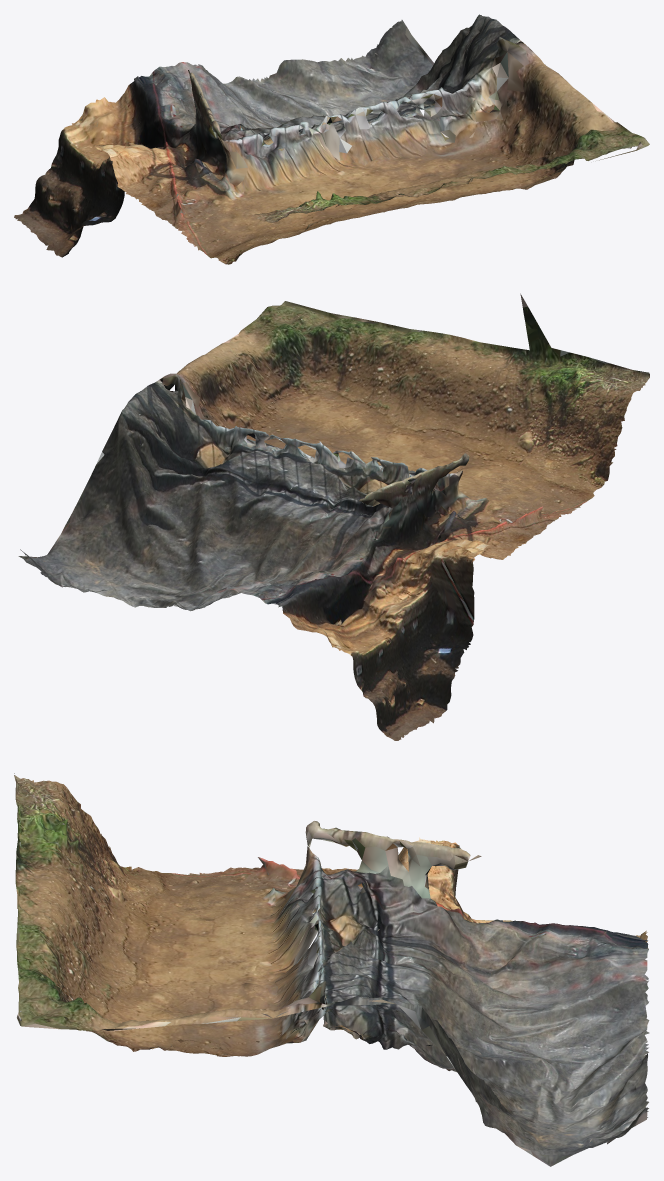
File: Montebelluna_scavo_LOD1.gltf
3 renders of one model, top to bottom at view 1: azimuth 30°, elevation 25°; view 2: azimuth 150°, elevation 25°; view 3: azimuth 270°, elevation 25°, orthographic. The views are drawn at different scales.
Visible parts, largest first — view 1: Montebelluna_scavo_LOD1_SM_Montebelluna_scavo_LOD1; view 2: Montebelluna_scavo_LOD1_SM_Montebelluna_scavo_LOD1; view 3: Montebelluna_scavo_LOD1_SM_Montebelluna_scavo_LOD1.
Boxes of the visible parts, x1,y1,x2,y2 form: Montebelluna_scavo_LOD1_SM_Montebelluna_scavo_LOD1: (14, 14, 649, 264); Montebelluna_scavo_LOD1_SM_Montebelluna_scavo_LOD1: (18, 293, 649, 740); Montebelluna_scavo_LOD1_SM_Montebelluna_scavo_LOD1: (14, 773, 649, 1166).
Size of the model in its own units: 3.43 by 2.04 by 3.82.
1 material, 1 textured.
